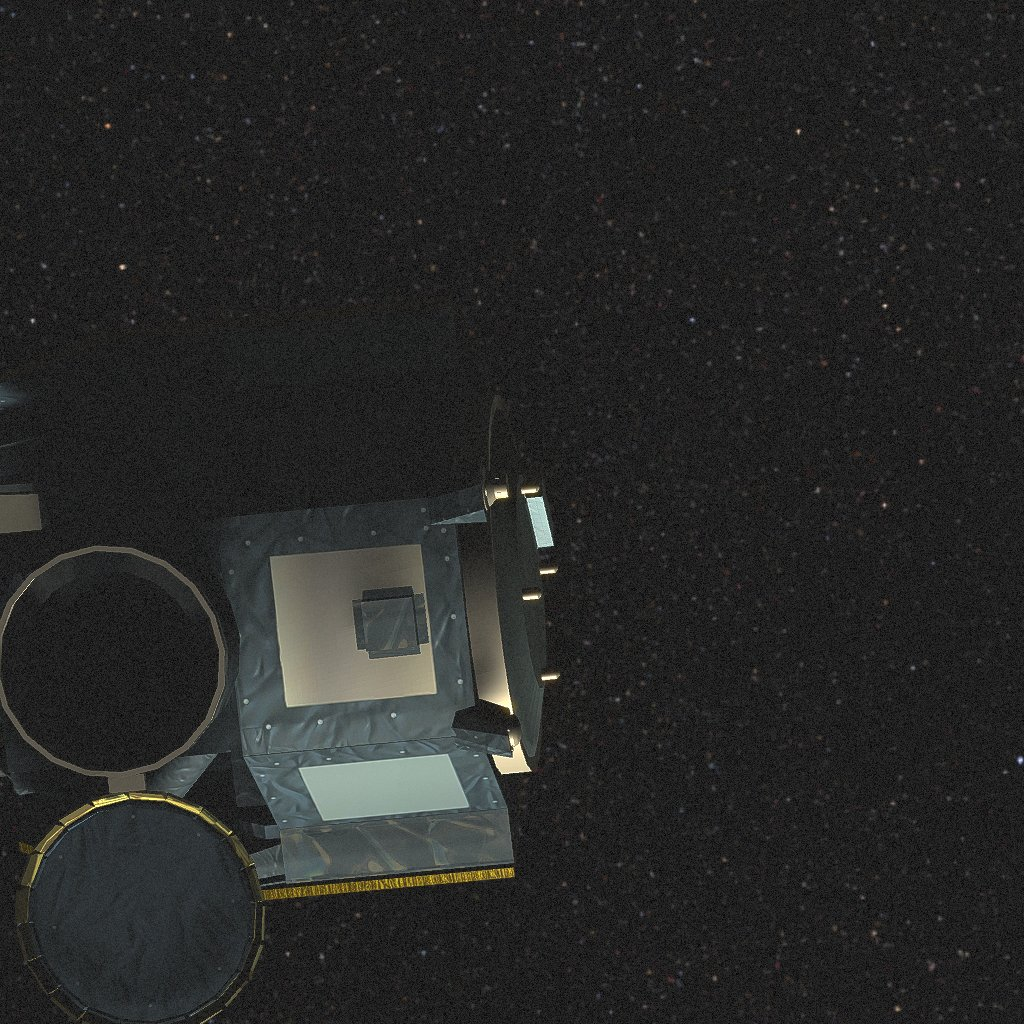cheops: (0, 296, 560, 1024)
